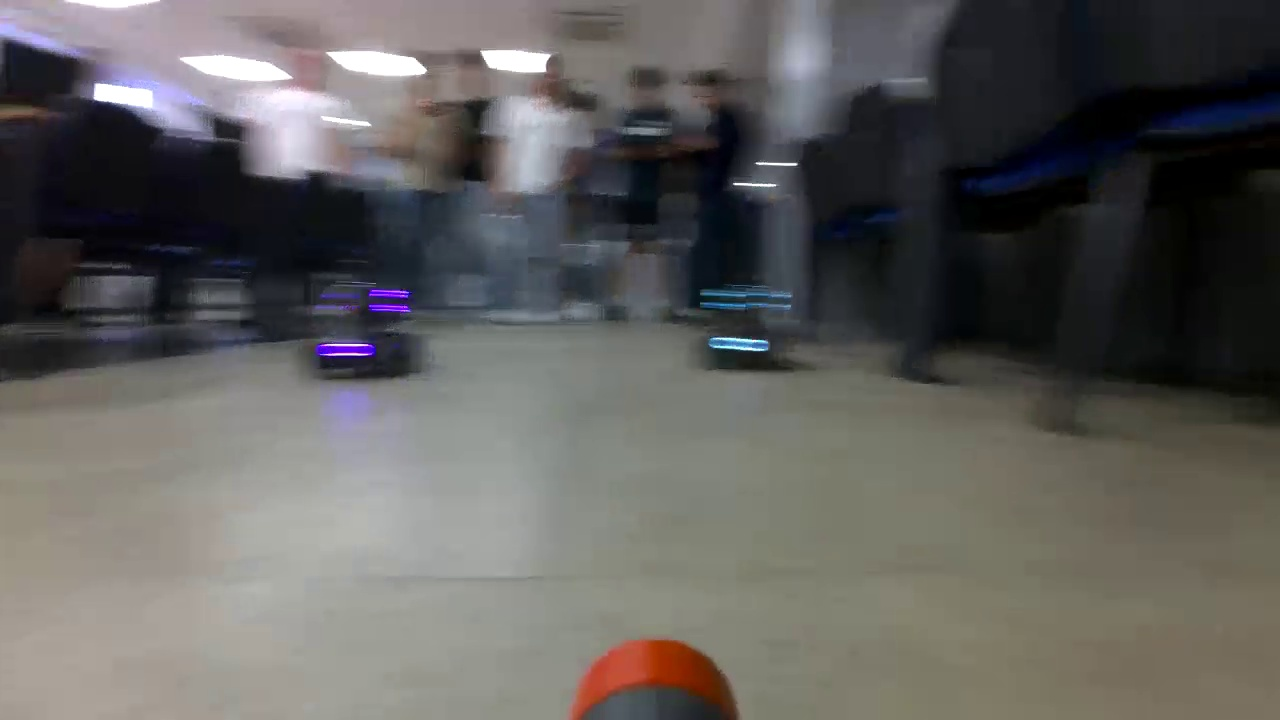robot: (306, 276, 419, 384), (703, 283, 802, 373)
